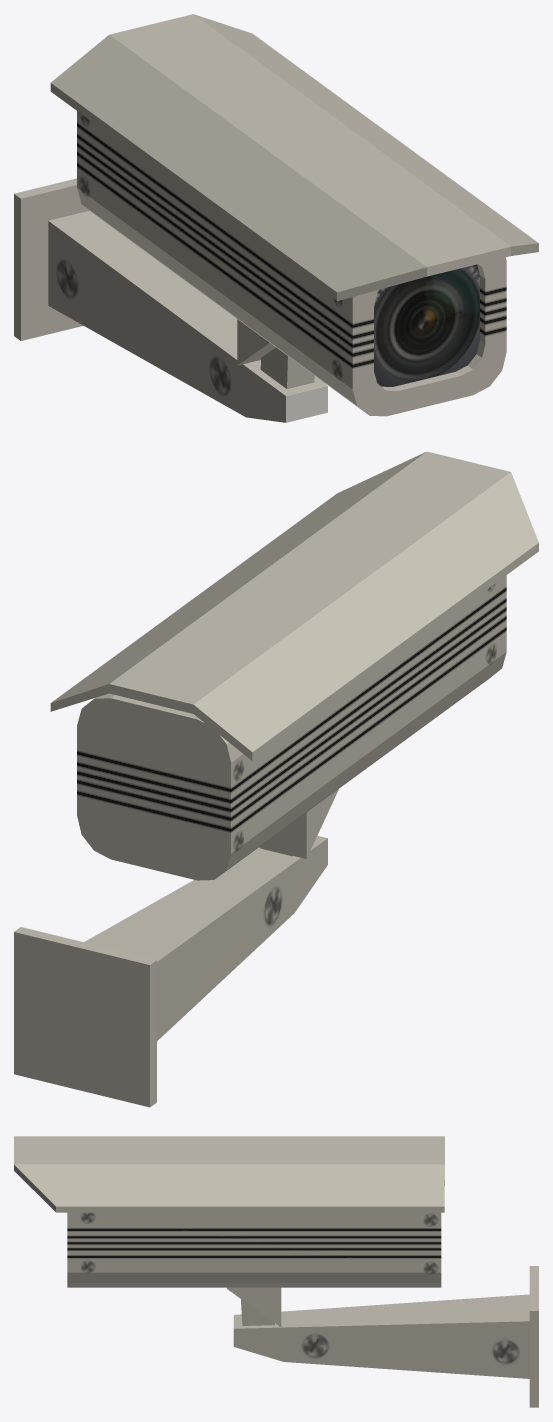
The model's file is camera.fbx.
3 views of the same model, one above another, from view 1: azimuth 30°, elevation 25°; view 2: azimuth 150°, elevation 25°; view 3: azimuth 270°, elevation 25° (orthographic). The views are drawn at different scales.
Visible parts, largest first — view 1: Cube.002; view 2: Cube.002; view 3: Cube.002.
Part boxes in pixels (left/top/right/bottom): Cube.002: left=14, top=14, right=538, bottom=422; Cube.002: left=14, top=451, right=538, bottom=1107; Cube.002: left=14, top=1136, right=538, bottom=1407.
Size of the model in its own units: 95.92 by 157 by 319.
